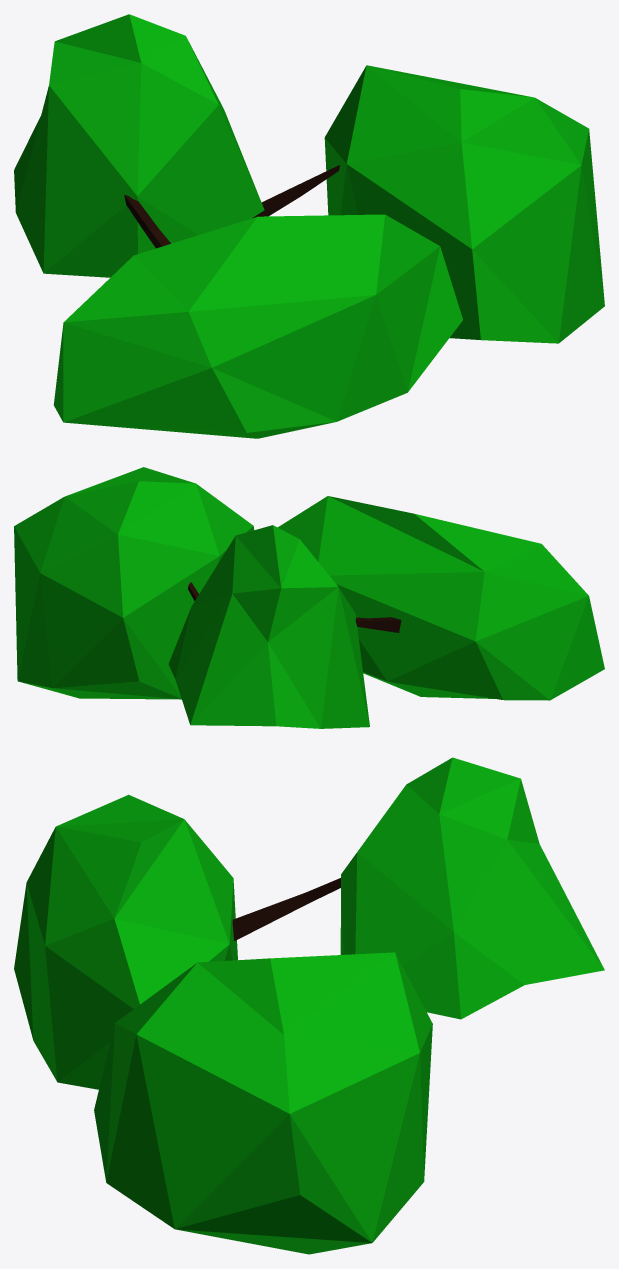
The model's file is buisson_2.FBX.
3 views of the same model, one above another, from view 1: azimuth 30°, elevation 25°; view 2: azimuth 150°, elevation 25°; view 3: azimuth 270°, elevation 25° (orthographic). The views are drawn at different scales.
Visible parts, largest first — view 1: GeoSphere006; view 2: GeoSphere006; view 3: GeoSphere006.
Boxes of the visible parts, x1=… form: GeoSphere006: x1=14, y1=14, x2=604, y2=438; GeoSphere006: x1=14, y1=467, x2=604, y2=728; GeoSphere006: x1=14, y1=757, x2=604, y2=1254.
Bounding box in the file's own units: 5.13 × 2.62 × 4.07.
